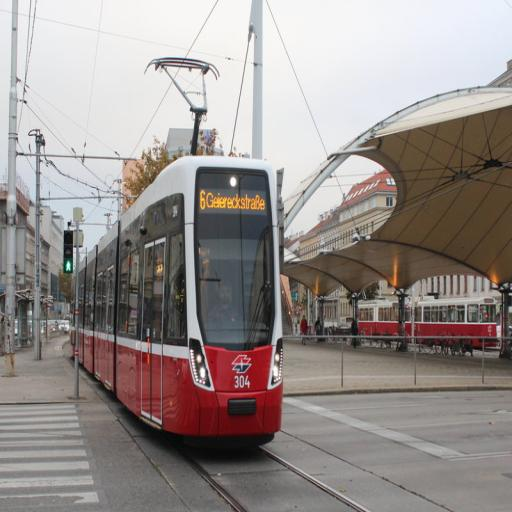Flexity: (70, 150, 290, 444)
